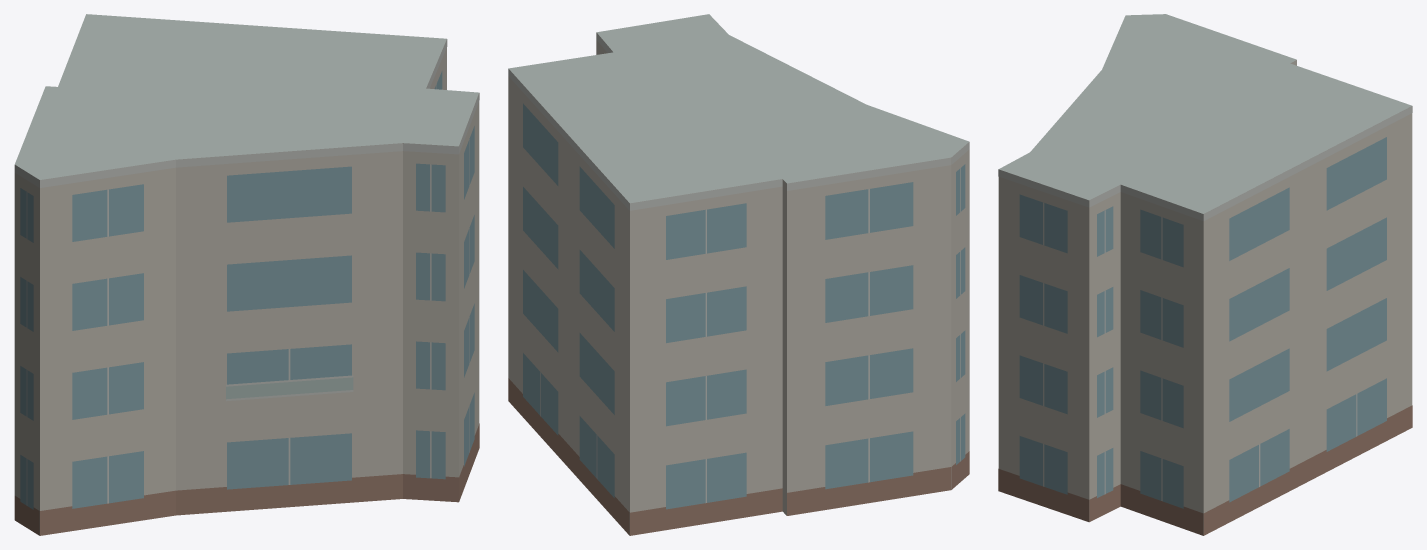
The model's file is survey-upis-32496782.glb.
The picture shows the model from 3 angles, left to right: view 1: azimuth 30°, elevation 25°; view 2: azimuth 150°, elevation 25°; view 3: azimuth 270°, elevation 25°; orthographic projection. The views are drawn at different scales.
Parts seen in each view (by area): view 1: survey-upis-32496782.tmp; view 2: survey-upis-32496782.tmp; view 3: survey-upis-32496782.tmp.
Boxes of the visible parts, <box> form: survey-upis-32496782.tmp: <box>14,14,479,535</box>; survey-upis-32496782.tmp: <box>508,14,969,535</box>; survey-upis-32496782.tmp: <box>998,14,1412,535</box>.
Size of the model in its own units: 14.41 by 10.8 by 12.6.
